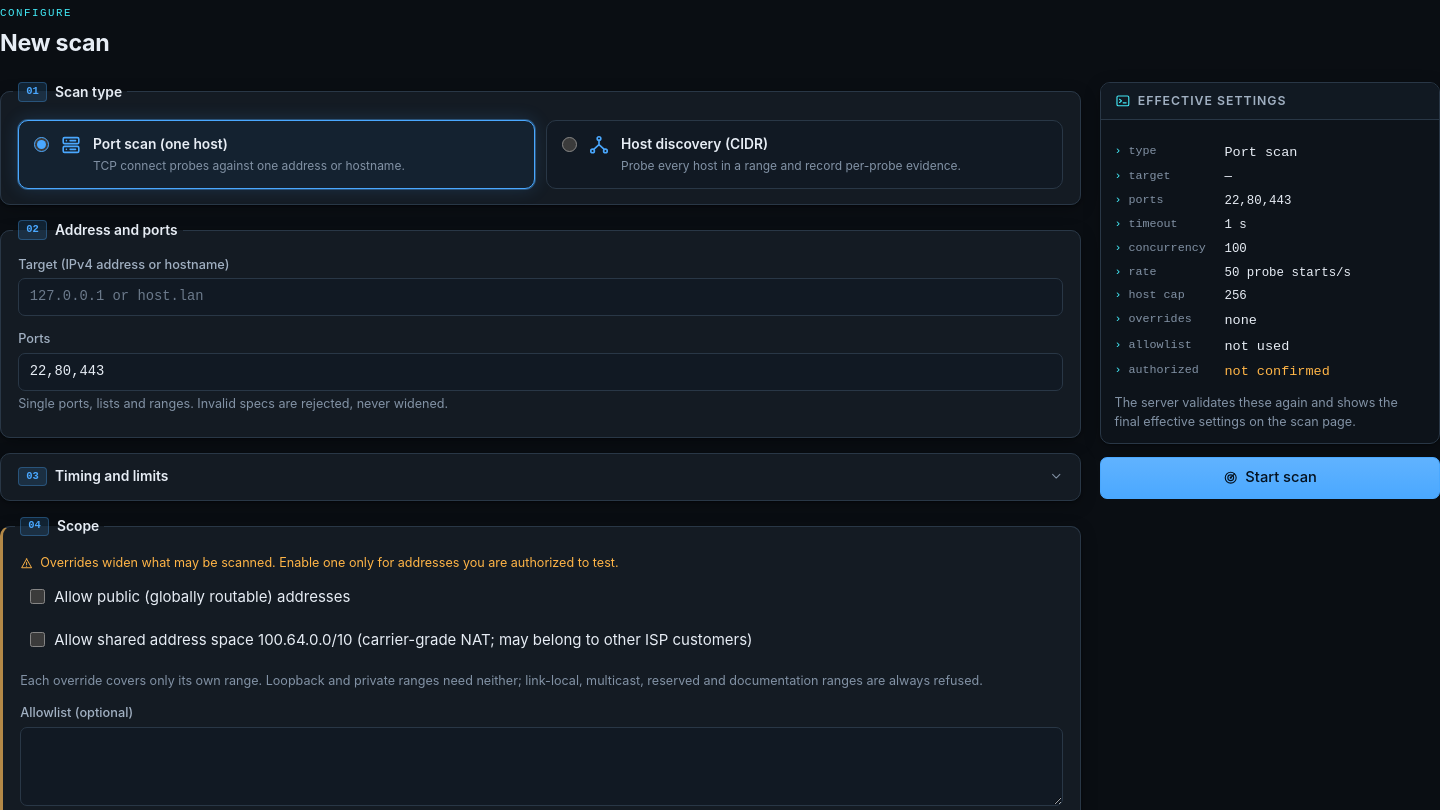
it: New scan form › shows the server's scope rejection
Type "8.8.8.8" into the field labelled "Target (IPv4 address or hostname)" at (541, 297), box [18,278,1063,316]
(page scrolled)
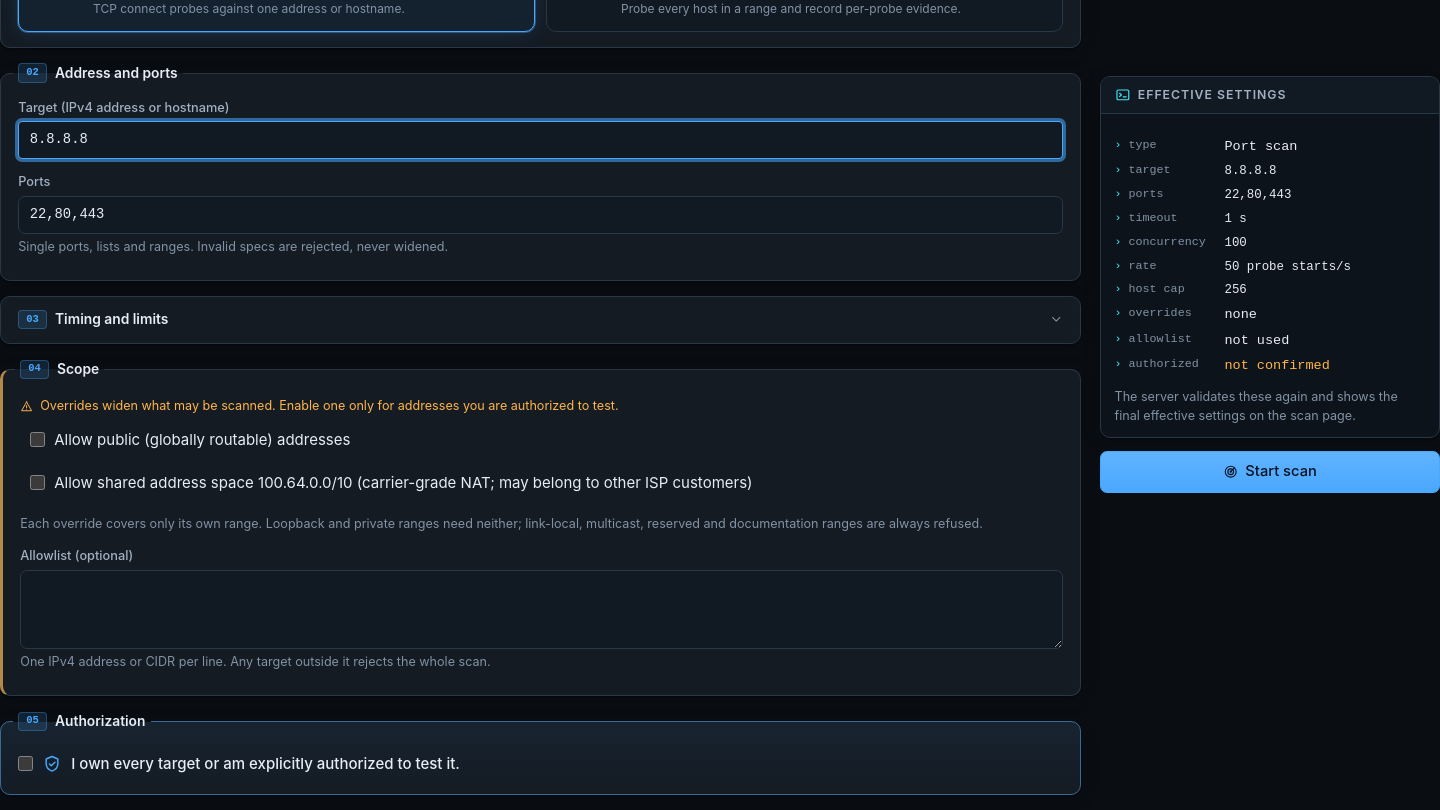
Click the checkbox labelled "I own every target or am explicitly authorized to test it." at (26, 764), box [18,756,33,771]
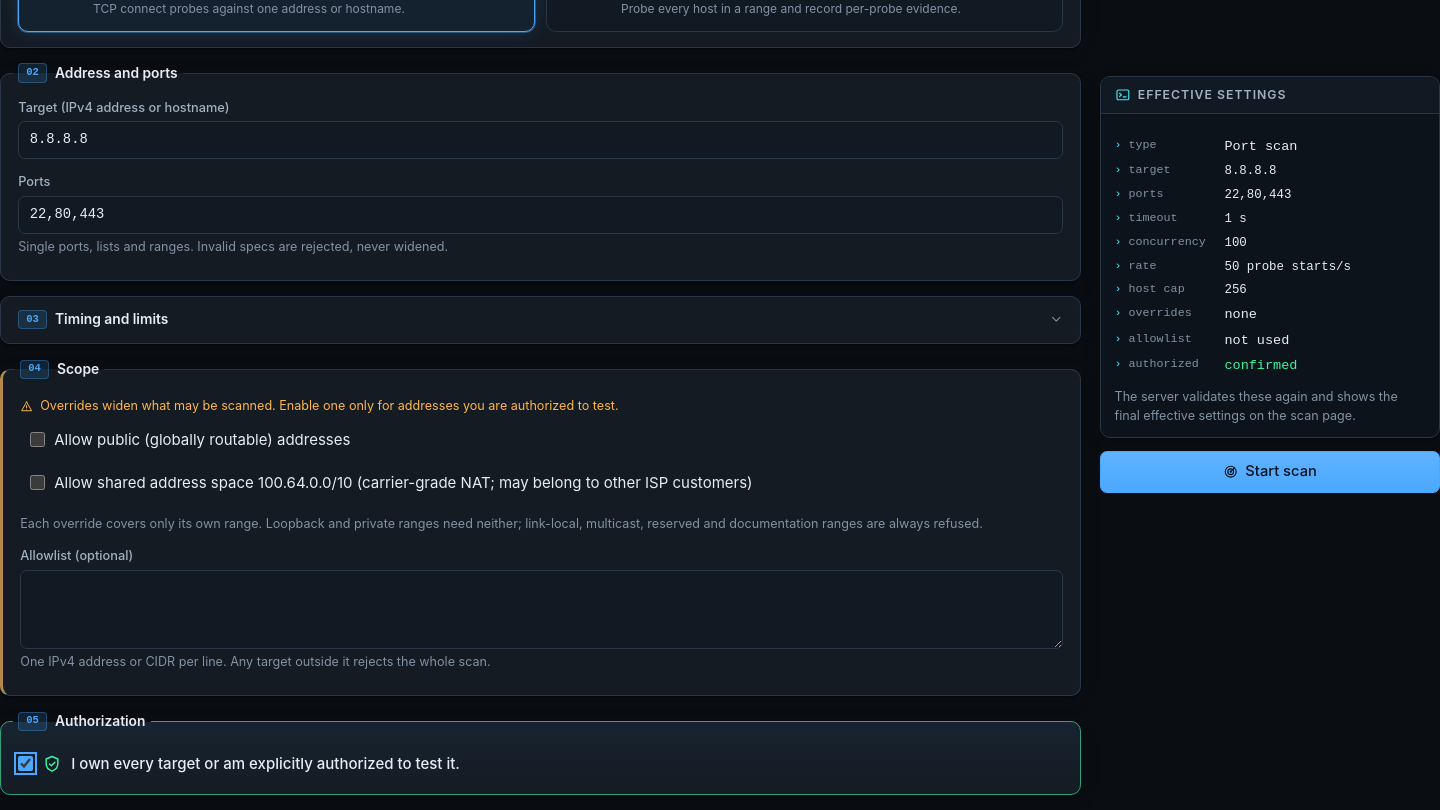
Click the button "Start scan" at (1270, 472), box [1100,451,1439,493]
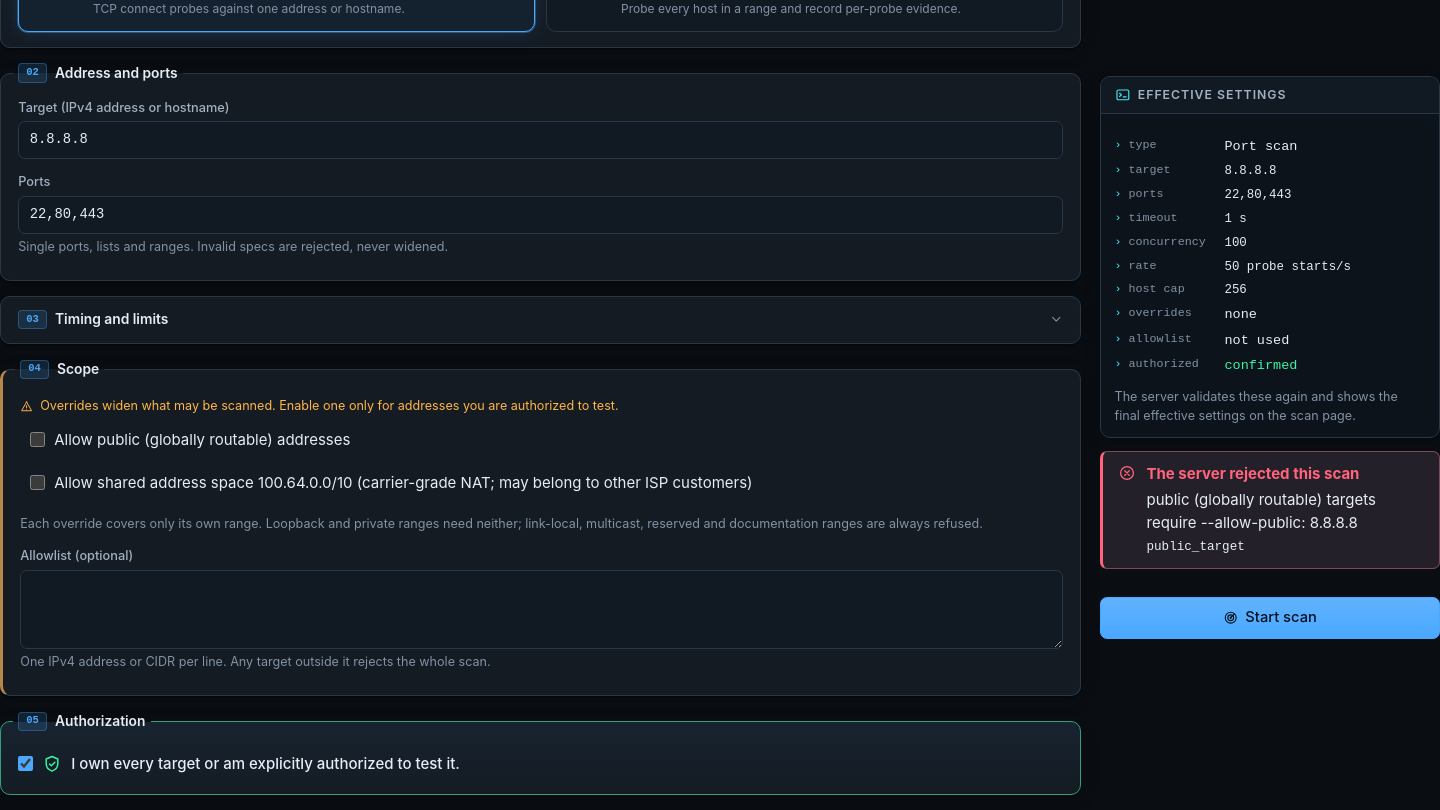
Now the text "The server rejected this scan" is shown, box [1146,464,1359,483]
Now the text "require --allow-public" is shown, box [1146,490,1376,532]
Now the text "public_target" is shown, box [1146,540,1245,554]
